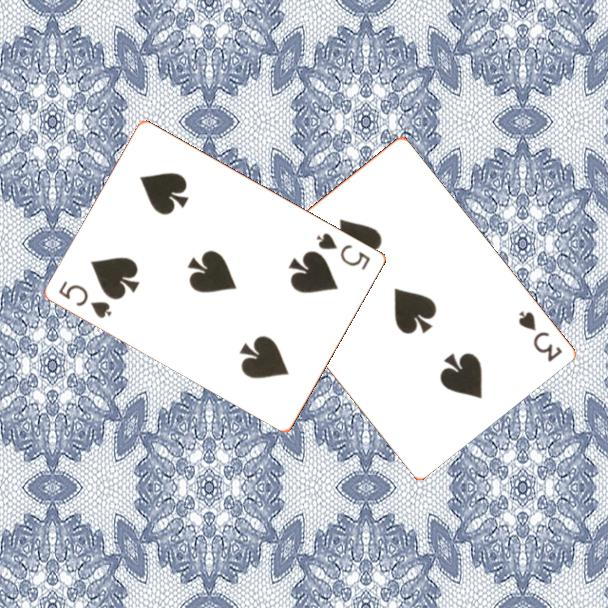s03: (514, 307, 565, 365)
s05: (313, 229, 374, 273), (55, 277, 115, 321)
